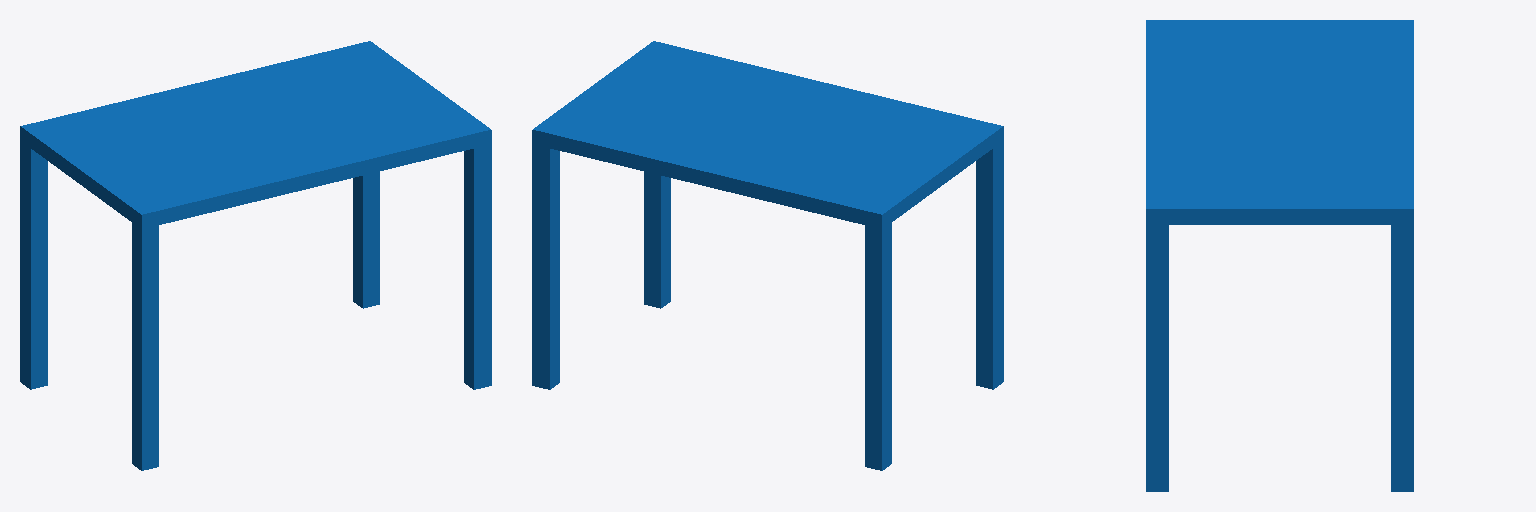
robot.urdf — cube:
<?xml version="0.0" ?>
<robot name="cube">
  <link name="baseLink">
    <contact>
      <lateral_friction value="1.0"/>
      <rolling_friction value="0.0"/>
      <contact_cfm value="0.0"/>
      <contact_erp value="1.0"/>
    </contact>
    <inertial>
      <mass value="0.020"/>
      <origin rpy="0 0 0" xyz="0 0 0"/>
      <inertia ixx="0.5" ixy="0" ixz="0" iyy="0.5" iyz="0" izz="0.5"/>
    </inertial>
    <visual>
      <origin rpy="0 0 0" xyz="0 0 0"/>
      <geometry>
        <mesh filename="mesa1.obj" />
      </geometry>
      <material name="white">
        <color rgba="0.1 0.5 0.8 1"/>
      </material>
    </visual>
    <collision>
      <origin rpy="0 0 0" xyz="0 0 0"/>
      <geometry>
        <mesh filename="mesa1.obj"/>
      </geometry>
    </collision>
  </link>
</robot>

--- Render facts (derived) ---
The picture shows the robot from 3 angles, left to right: view 1: azimuth 30°, elevation 25°; view 2: azimuth 150°, elevation 25°; view 3: azimuth 270°, elevation 25°; orthographic projection.
Model cube with 1 links and 0 joints (none), rooted at baseLink, posed all joints at 0.
Visible links, largest first — view 1: baseLink; view 2: baseLink; view 3: baseLink.
Boxes of the visible links, x1=… form: baseLink: x1=20, y1=41, x2=491, y2=470; baseLink: x1=532, y1=41, x2=1003, y2=470; baseLink: x1=1146, y1=20, x2=1413, y2=491.
Size in the robot's own frame: 1000 by 600 by 700 metres.
1 mesh visuals loaded from 1 distinct referenced files (1 OBJ).